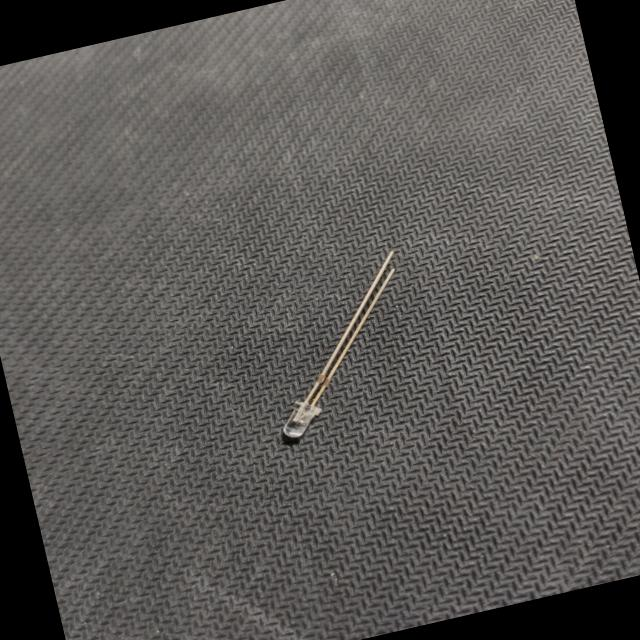led: (224, 239, 446, 463)
